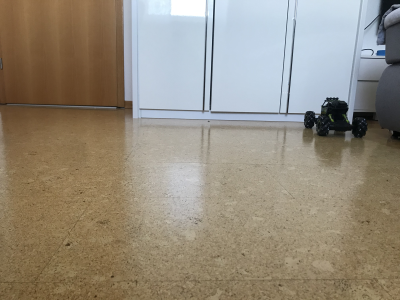remote control car: (302, 95, 368, 139)
